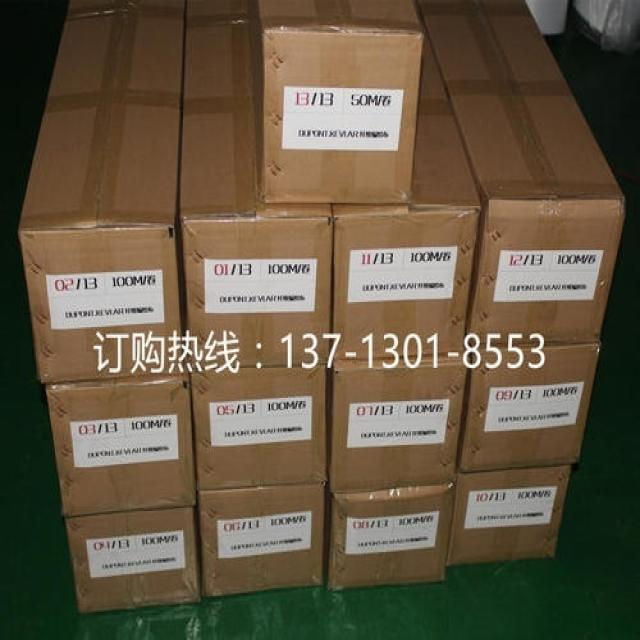Carton: (416, 0, 625, 341), (17, 0, 184, 379), (449, 346, 595, 561), (264, 28, 421, 203), (179, 217, 332, 370), (45, 374, 196, 516), (333, 212, 477, 355), (332, 357, 470, 487), (189, 365, 326, 494), (64, 509, 196, 612), (198, 489, 323, 591), (330, 486, 452, 587)
